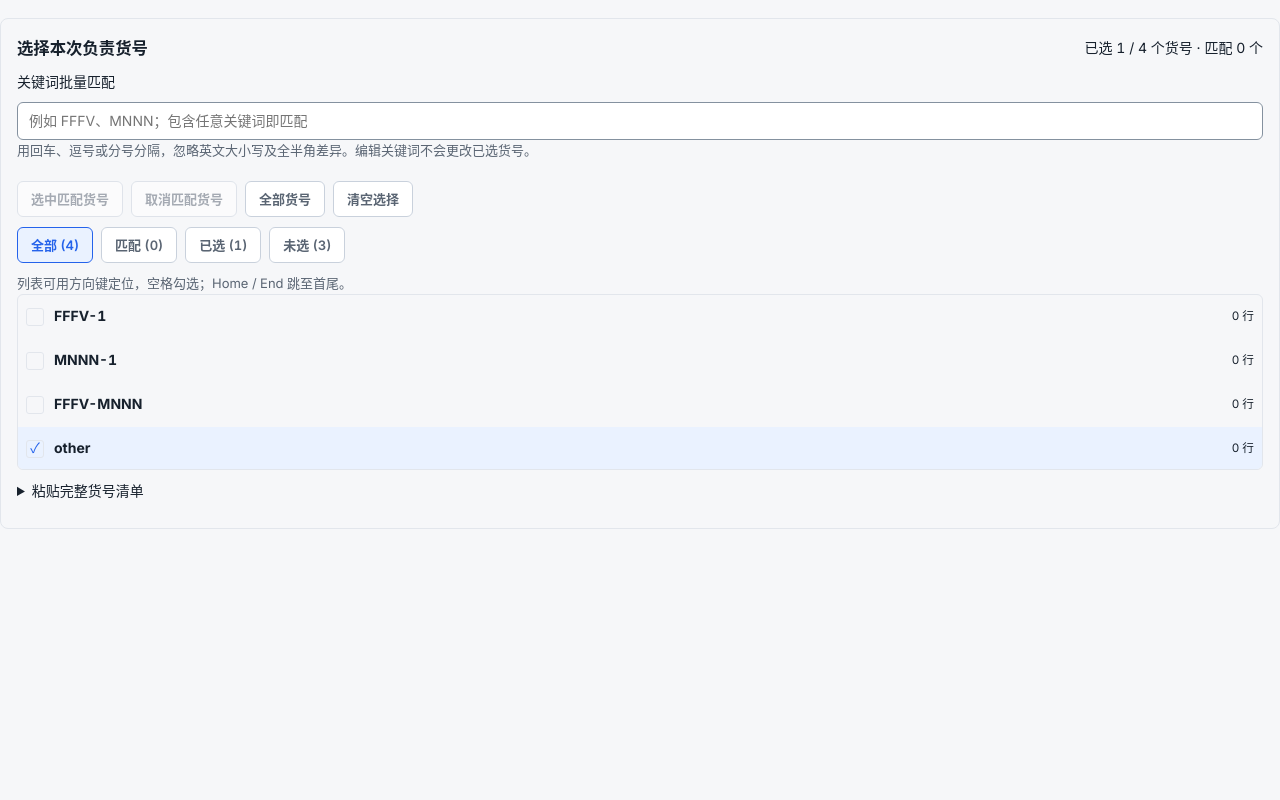
Test: edits keywords without changing selections and explicitly adds/removes deduplicated matching goods
Expected: the button "选中匹配货号" is disabled, [17,181,123,217]
Type "ｆｆｆｖ，mnnn" into the field labelled "关键词批量匹配" at (640,121), box [17,102,1263,140]
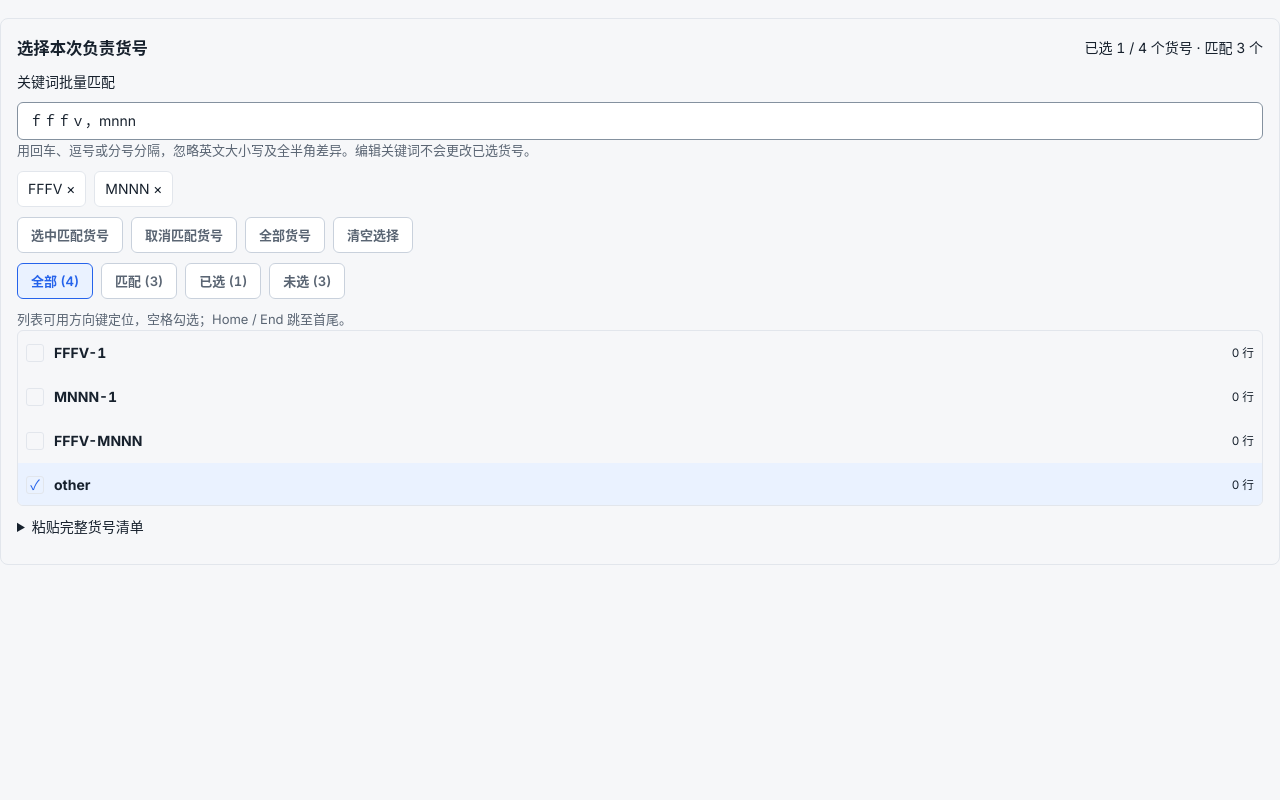
Result: the text "匹配 3 个" is shown at [1085,37,1263,59]
Click the button "选中匹配货号" at (70,235), box [17,217,123,253]
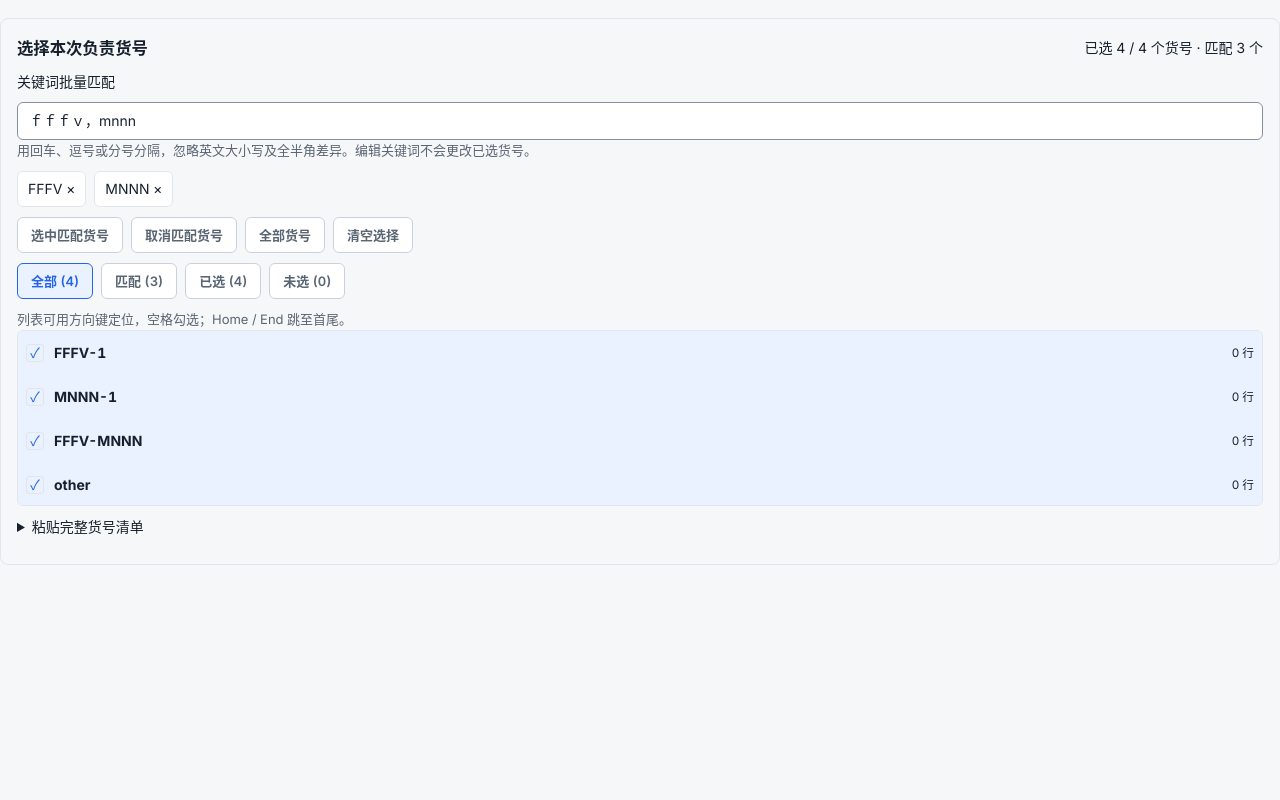
Replace the text in the field labelled "关键词批量匹配" with "FFFV" at (640,121), box [17,102,1263,140]
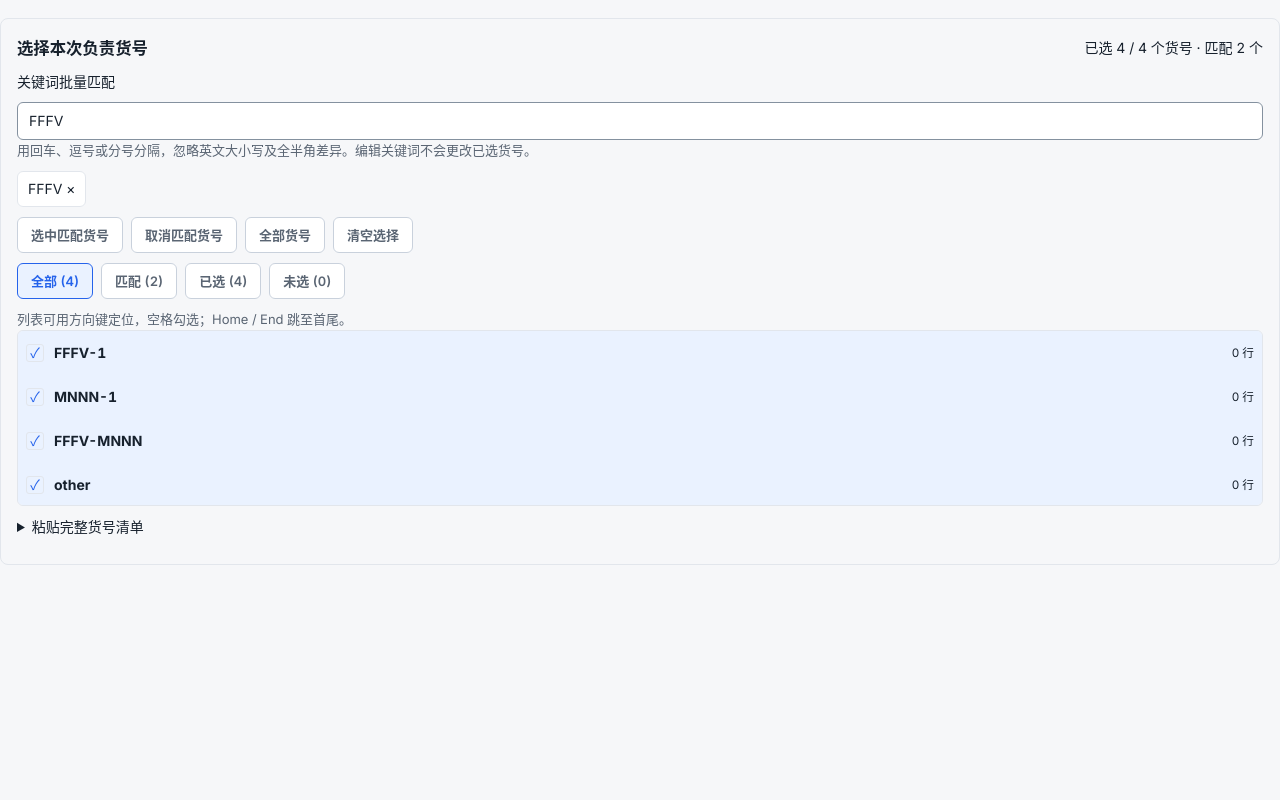
Click the button "取消匹配货号" at (184,235), box [131,217,237,253]
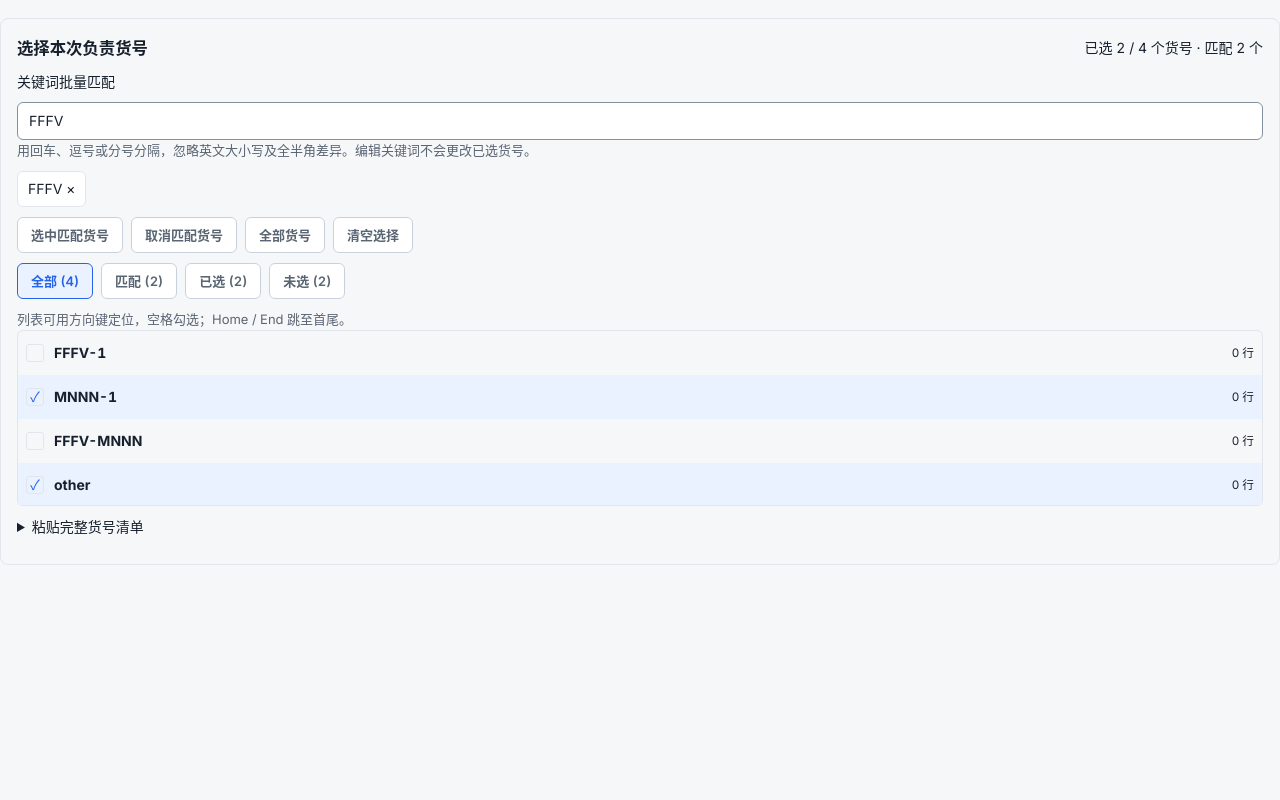
Clear the field labelled "关键词批量匹配" at (640,121), box [17,102,1263,140]
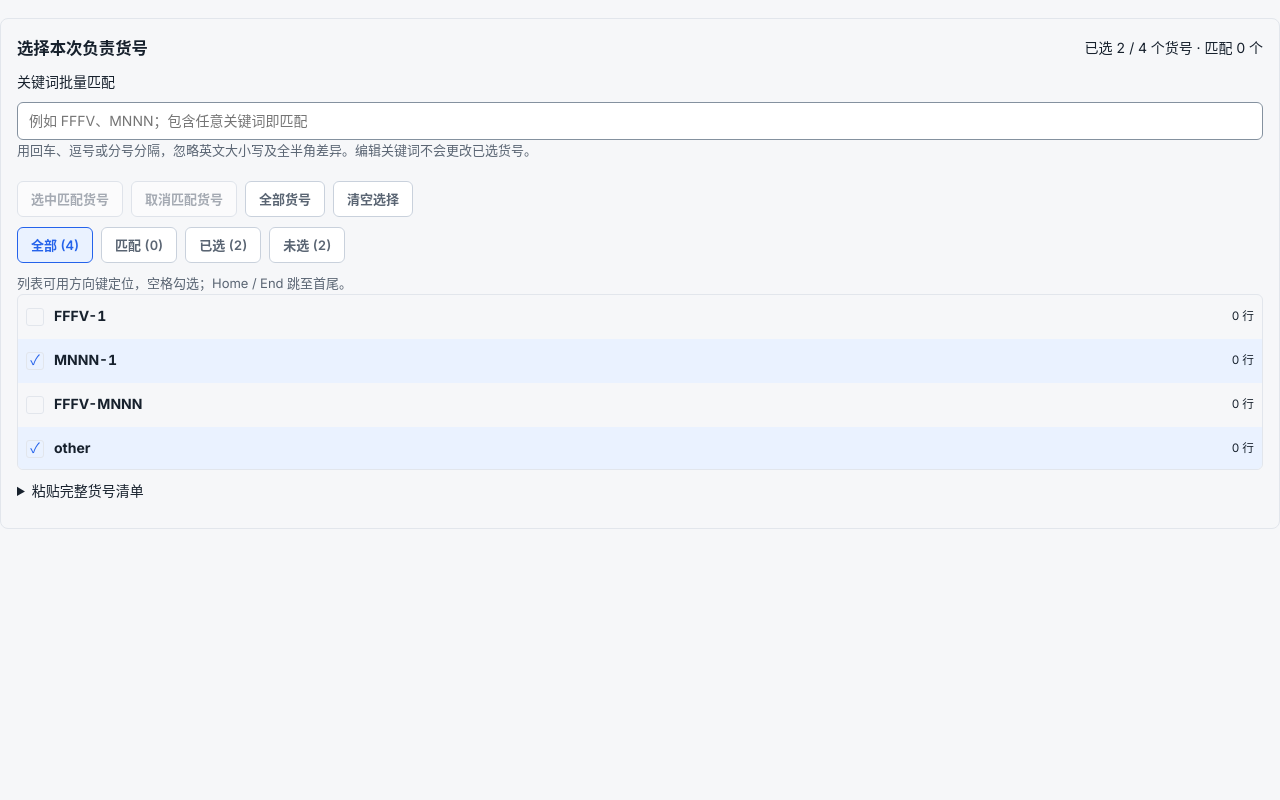
Result: the button "取消匹配货号" is disabled at [131,181,237,217]
